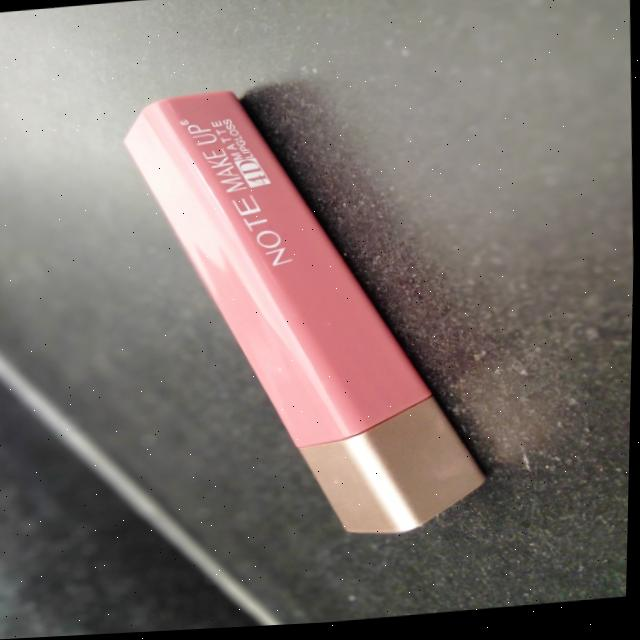lip stick: (82, 50, 514, 573)
